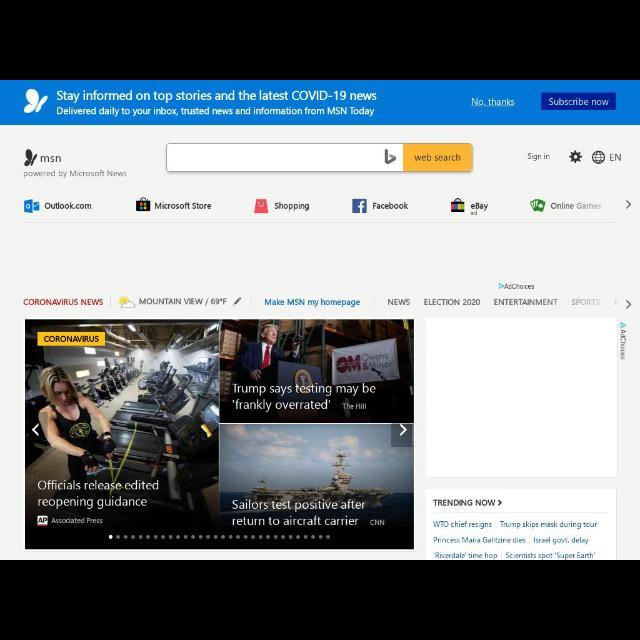icon: (23, 88, 47, 114), (22, 148, 38, 168), (382, 148, 396, 164), (590, 152, 606, 164), (570, 150, 582, 164), (624, 199, 630, 209), (624, 299, 630, 309), (498, 498, 502, 506)
iframe: (427, 317, 618, 477)
image: (28, 320, 412, 524), (119, 294, 135, 312), (352, 198, 368, 214), (24, 200, 40, 214), (254, 198, 268, 214), (452, 198, 464, 214), (136, 198, 150, 210), (532, 198, 544, 212)
input: (166, 144, 404, 172)
pageindicator: (107, 534, 330, 540)
text: (57, 90, 376, 118), (264, 298, 360, 308), (24, 170, 128, 178), (24, 296, 106, 306), (432, 497, 496, 509), (434, 535, 526, 543), (139, 298, 227, 306), (550, 98, 608, 109), (422, 298, 482, 308), (432, 520, 492, 530), (499, 522, 598, 528), (506, 552, 598, 558), (552, 201, 602, 211), (434, 551, 496, 559), (470, 97, 516, 107), (492, 300, 558, 306), (44, 202, 92, 210), (414, 154, 462, 162), (532, 538, 590, 544), (155, 203, 211, 209), (274, 202, 310, 210), (372, 202, 408, 210), (470, 202, 488, 214), (388, 298, 412, 306), (570, 298, 602, 304), (528, 152, 550, 160), (40, 156, 60, 162), (610, 154, 622, 162)
textbutton: (404, 144, 472, 170), (542, 92, 616, 110)
